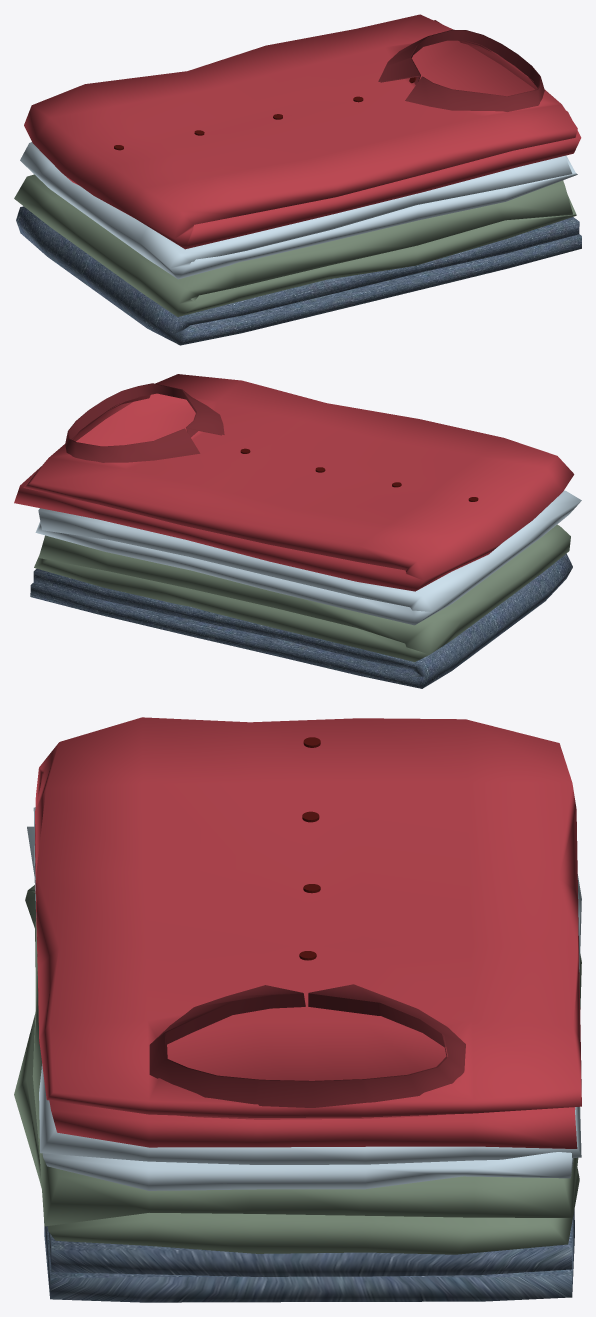
File: Ropa armario.002.glb
3 views of the same model, one above another, from view 1: azimuth 30°, elevation 25°; view 2: azimuth 150°, elevation 25°; view 3: azimuth 270°, elevation 25° (orthographic). The views are drawn at different scales.
Visible parts, largest first — view 1: Armario_Ropa armario.002; view 2: Armario_Ropa armario.002; view 3: Armario_Ropa armario.002.
Part boxes in pixels (<box>): Armario_Ropa armario.002: <box>14,14,581,345</box>; Armario_Ropa armario.002: <box>14,374,581,688</box>; Armario_Ropa armario.002: <box>14,717,581,1302</box>.
Bounding box in the file's own units: 0.4985 × 0.1529 × 0.323.
Materials: 6 (1 with a texture image).
